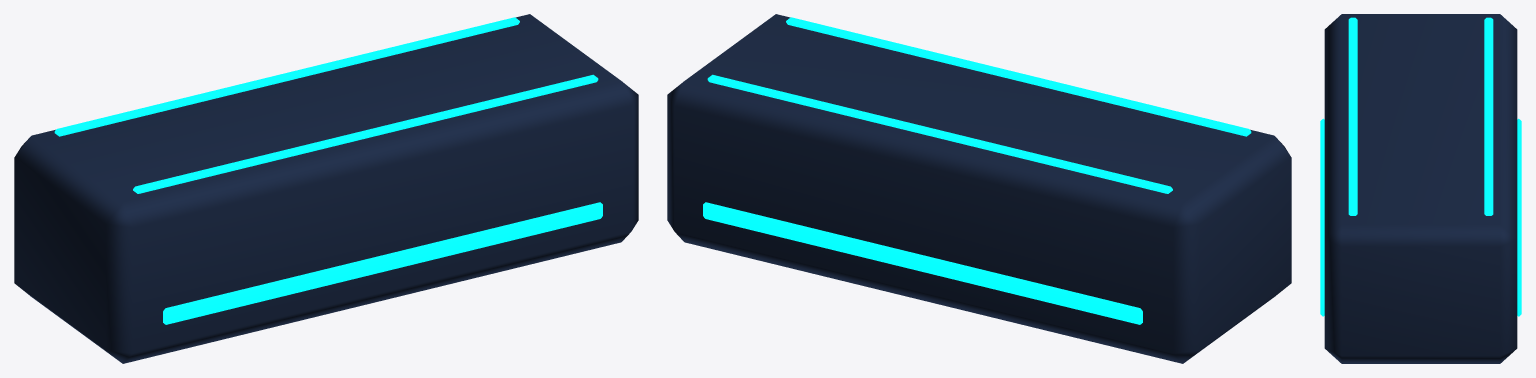
Rendered from NT_Cover_Rect_Cyan.fbx.
3 renders of one model, left to right at view 1: azimuth 30°, elevation 25°; view 2: azimuth 150°, elevation 25°; view 3: azimuth 270°, elevation 25°, orthographic. The views are drawn at different scales.
Visible parts, largest first — view 1: NT_Cover_Rect_Cyan__CoverMesh; view 2: NT_Cover_Rect_Cyan__CoverMesh; view 3: NT_Cover_Rect_Cyan__CoverMesh.
Part boxes in pixels (<box>): NT_Cover_Rect_Cyan__CoverMesh: <box>14,14,638,363</box>; NT_Cover_Rect_Cyan__CoverMesh: <box>667,14,1291,363</box>; NT_Cover_Rect_Cyan__CoverMesh: <box>1320,14,1521,363</box>.
Bounding box in the file's own units: 2.35 × 0.703 × 0.889.
